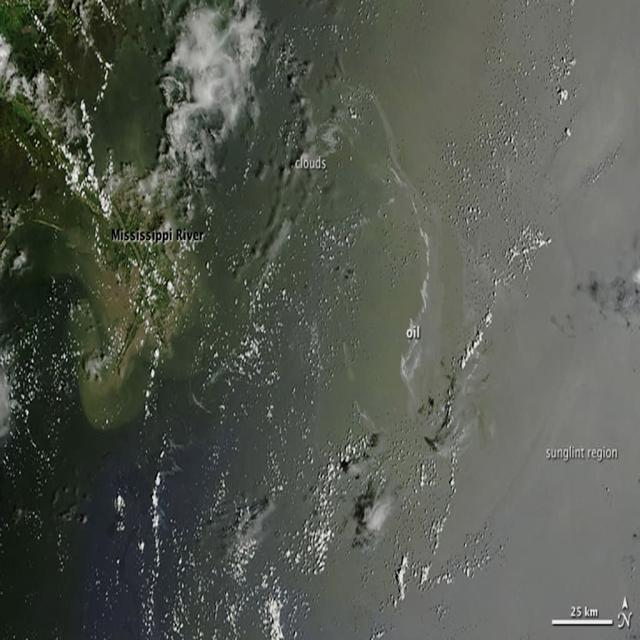oil spill: (409, 191, 430, 329)
